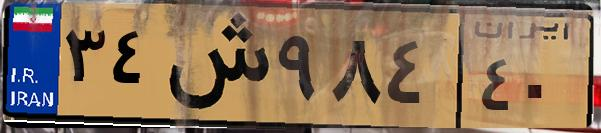0: (525, 38, 570, 115)
3: (57, 26, 110, 100)
4: (385, 28, 445, 110), (475, 38, 525, 113), (110, 28, 158, 98)
8: (330, 28, 385, 110)
9: (270, 28, 330, 110)
ش: (158, 12, 270, 120)
